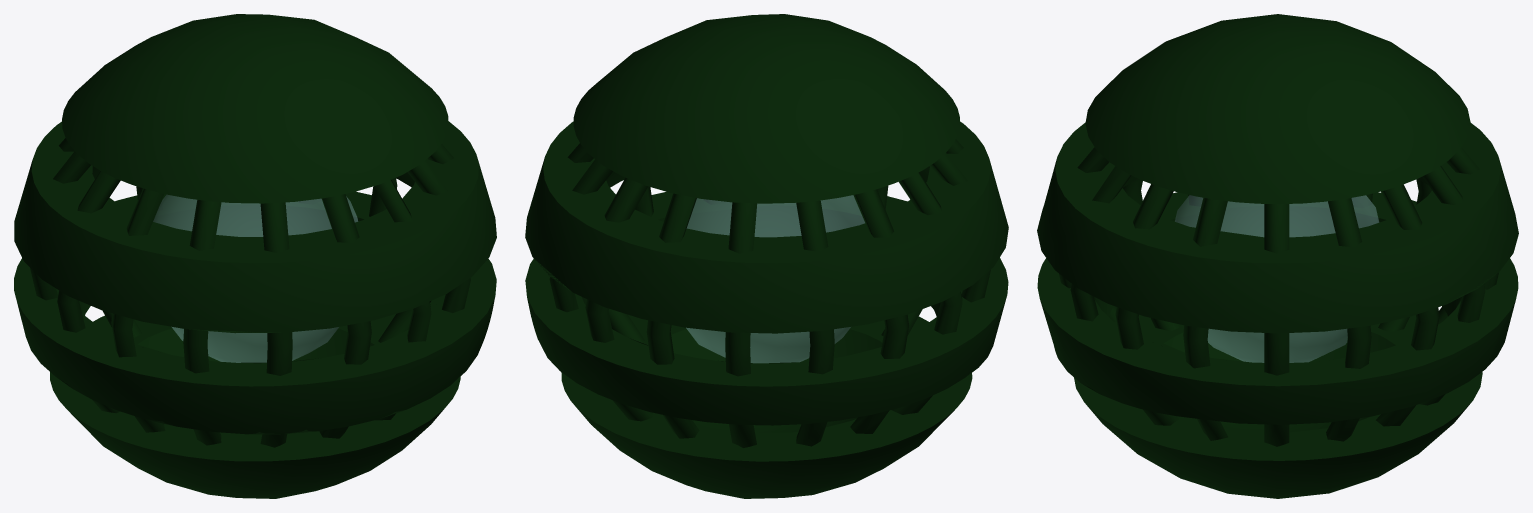
Rendered from Bomba.fbx.
3 renders of one model, left to right at view 1: azimuth 30°, elevation 25°; view 2: azimuth 150°, elevation 25°; view 3: azimuth 270°, elevation 25°, orthographic.
Parts seen in each view (by area): view 1: Objeto_14, Objeto_9, Objeto_3, Objeto_4, Objeto_5, Objeto_12, Objeto_19, Objeto_13, Objeto_11, Objeto_10, Objeto_1, Objeto_22 (+2 smaller); view 2: Objeto_14, Objeto_9, Objeto_3, Objeto_4, Objeto_5, Objeto_7, Objeto_8, Objeto_16, Objeto_23, Objeto_18, Objeto_10, Objeto_17 (+2 smaller); view 3: Objeto_14, Objeto_9, Objeto_3, Objeto_4, Objeto_5, Objeto_21, Objeto_15, Objeto_20, Objeto_17, Objeto_22, Objeto_18, Objeto_1 (+4 smaller).
Boxes of the visible parts, bbox=[...] form: Objeto_14: bbox=[62, 14, 448, 203]; Objeto_9: bbox=[14, 121, 496, 333]; Objeto_3: bbox=[14, 191, 496, 434]; Objeto_4: bbox=[50, 314, 460, 498]; Objeto_5: bbox=[153, 194, 357, 362]; Objeto_12: bbox=[260, 202, 292, 447]; Objeto_19: bbox=[183, 199, 221, 445]; Objeto_13: bbox=[319, 194, 371, 438]; Objeto_11: bbox=[111, 188, 165, 432]; Objeto_10: bbox=[57, 171, 120, 413]; Objeto_1: bbox=[374, 180, 431, 420]; Objeto_22: bbox=[407, 160, 470, 312]; Objeto_14: bbox=[573, 14, 959, 203]; Objeto_9: bbox=[525, 121, 1008, 333]; Objeto_3: bbox=[525, 191, 1008, 425]; Objeto_4: bbox=[561, 314, 972, 498]; Objeto_5: bbox=[686, 195, 864, 363]; Objeto_7: bbox=[725, 202, 757, 447]; Objeto_8: bbox=[796, 200, 834, 446]; Objeto_16: bbox=[646, 193, 699, 438]; Objeto_23: bbox=[850, 189, 909, 433]; Objeto_18: bbox=[585, 177, 652, 421]; Objeto_10: bbox=[892, 172, 962, 414]; Objeto_17: bbox=[549, 159, 612, 312]; Objeto_14: bbox=[1085, 14, 1470, 204]; Objeto_9: bbox=[1037, 122, 1518, 333]; Objeto_3: bbox=[1037, 192, 1518, 424]; Objeto_4: bbox=[1074, 314, 1482, 498]; Objeto_5: bbox=[1175, 195, 1378, 362]; Objeto_21: bbox=[1264, 204, 1289, 446]; Objeto_15: bbox=[1326, 198, 1371, 441]; Objeto_20: bbox=[1183, 197, 1227, 440]; Objeto_17: bbox=[1376, 184, 1439, 426]; Objeto_22: bbox=[1115, 184, 1178, 425]; Objeto_18: bbox=[1419, 166, 1485, 405]; Objeto_1: bbox=[1070, 166, 1131, 321].
Size of the model in its own units: 16.46 by 16.56 by 16.47.
